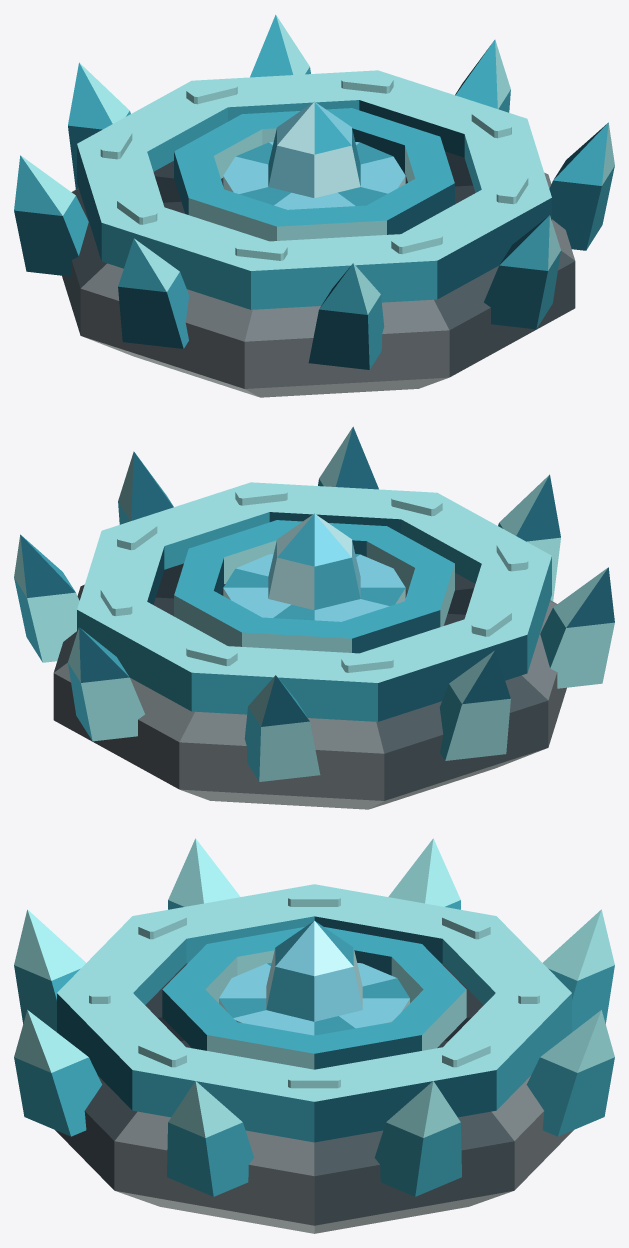
The model's file is resurrection_stone.fbx.
3 renders of one model, top to bottom at view 1: azimuth 30°, elevation 25°; view 2: azimuth 150°, elevation 25°; view 3: azimuth 270°, elevation 25°, orthographic. The views are drawn at different scales.
Visible parts, largest first — view 1: resurrection_stone_body, resurrection_stone_core; view 2: resurrection_stone_body, resurrection_stone_core; view 3: resurrection_stone_body, resurrection_stone_core.
Part boxes in pixels (<box>): resurrection_stone_body: <box>14,14,614,397</box>; resurrection_stone_core: <box>223,101,405,209</box>; resurrection_stone_body: <box>14,426,614,809</box>; resurrection_stone_core: <box>223,513,405,621</box>; resurrection_stone_body: <box>14,838,614,1233</box>; resurrection_stone_core: <box>219,920,409,1035</box>.
Size of the model in its own units: 3.08 by 1.25 by 3.08.
1 material, 1 textured.
